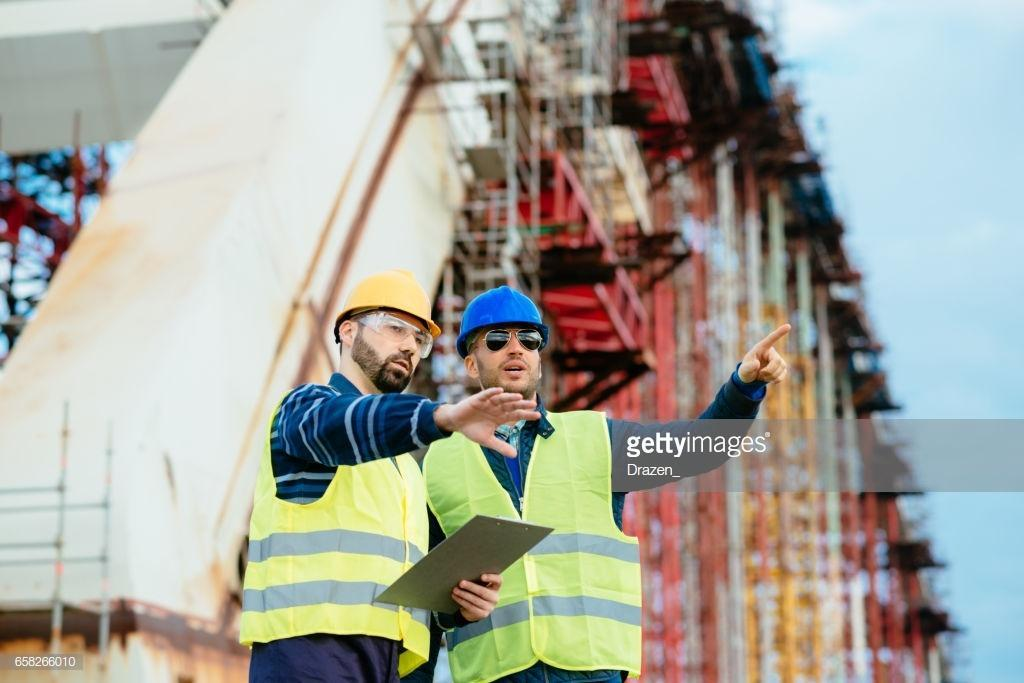helmet: (333, 270, 444, 347), (455, 285, 551, 351)
person: (239, 269, 459, 683), (449, 283, 622, 683)
vest: (463, 425, 639, 683), (255, 453, 446, 647)
